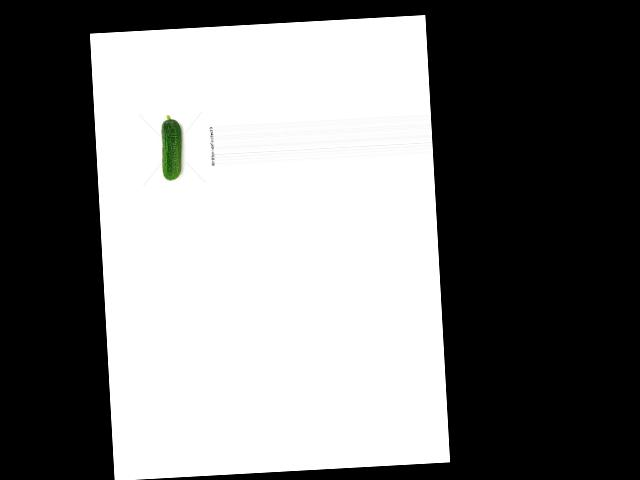cucumber: (159, 114, 183, 181)
